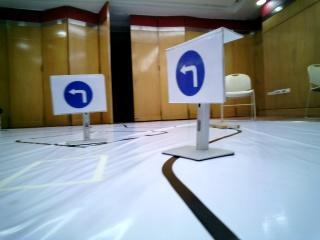left: (168, 41, 222, 102), (52, 76, 106, 113)
